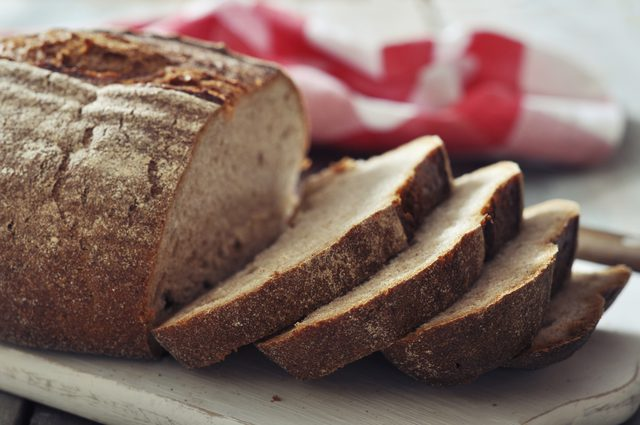slice of bread: (169, 85, 640, 385)
